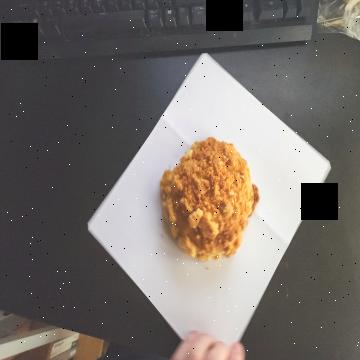soboru_bread: (160, 135, 261, 258)
